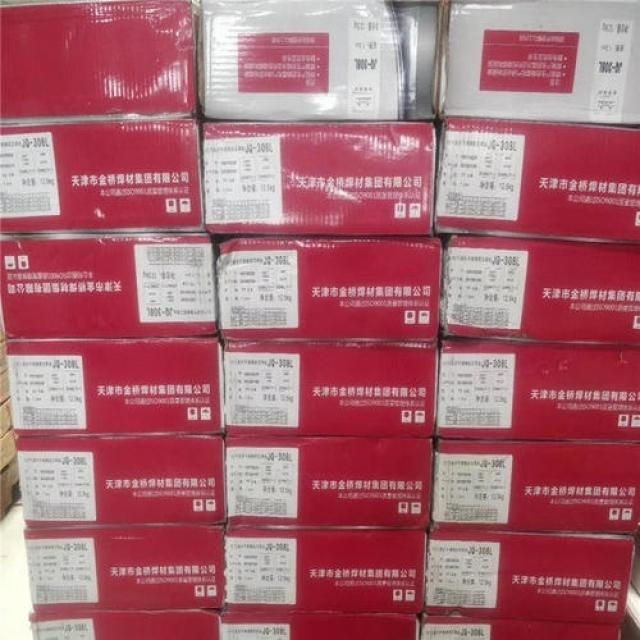box: (200, 1, 444, 121), (203, 119, 439, 236), (433, 116, 639, 246), (0, 1, 200, 127), (439, 0, 639, 125), (215, 236, 442, 342), (0, 117, 204, 233), (0, 232, 218, 339), (4, 339, 226, 439), (440, 237, 639, 347), (221, 340, 439, 439), (436, 339, 639, 440), (432, 438, 639, 535), (426, 530, 637, 624), (225, 438, 434, 530), (14, 438, 226, 526), (224, 525, 427, 614), (24, 525, 227, 610), (31, 608, 227, 639), (222, 610, 421, 638), (419, 616, 624, 639)
